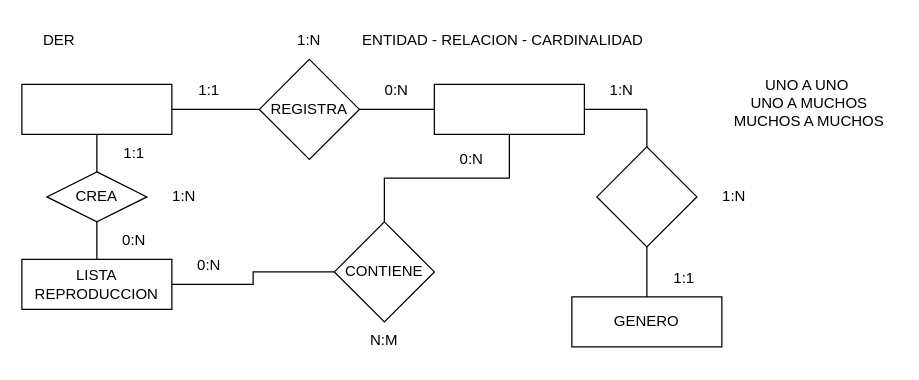
Image size: 919x380. Some labels were removed from this diagram. Each missing label, with the centre of its shape:
MUSICA: [508,108]
PERTENECE: [646,196]
USUARIO: [96,108]
